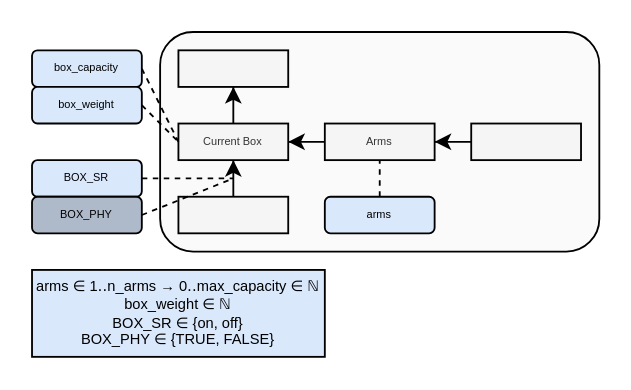
This 631x390 diagram has some shape labels left out. The shapes that lost their labels are listed below. From the top down, each one's centre as x and y in pixels, then its label:
point (232, 67): Full Boxes
point (525, 141): Conveyor Belt
point (232, 214): Empty Boxes
